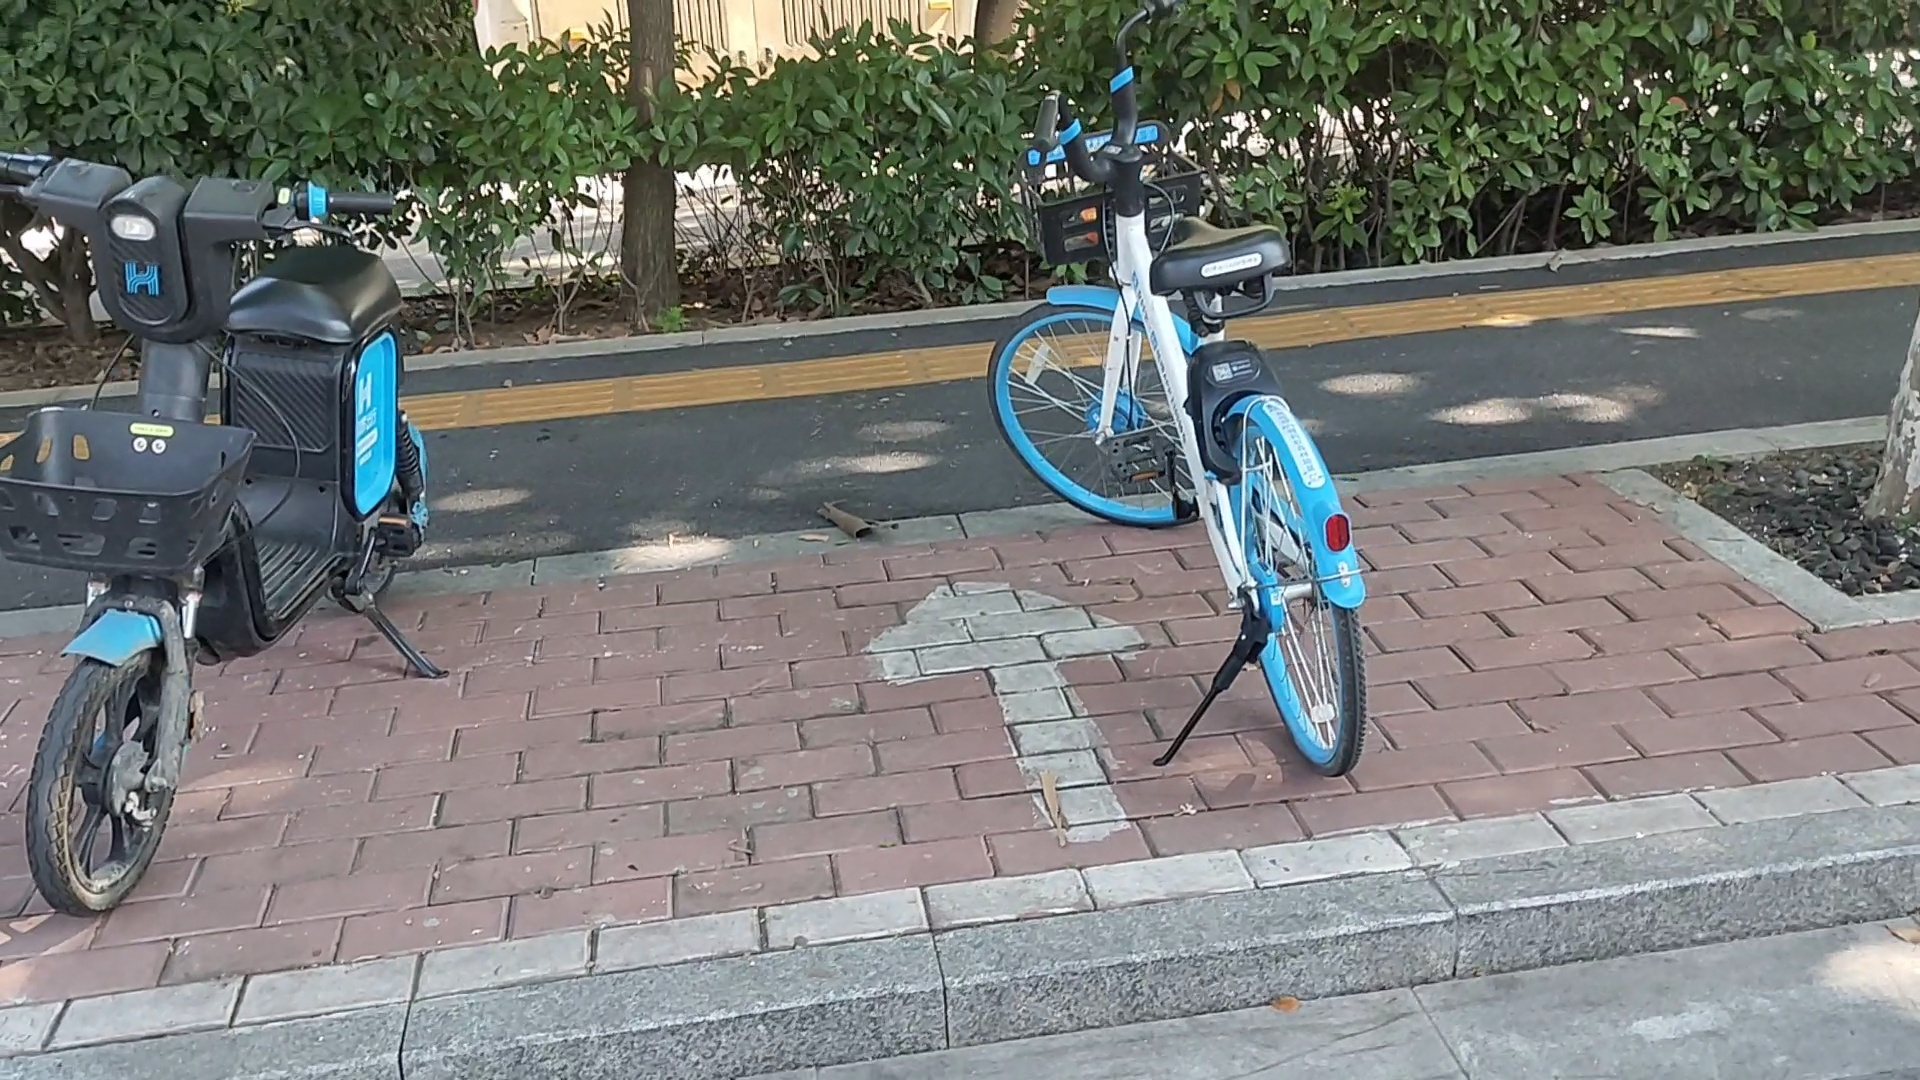non-vehicle: (0, 146, 456, 927), (978, 45, 1377, 793)
